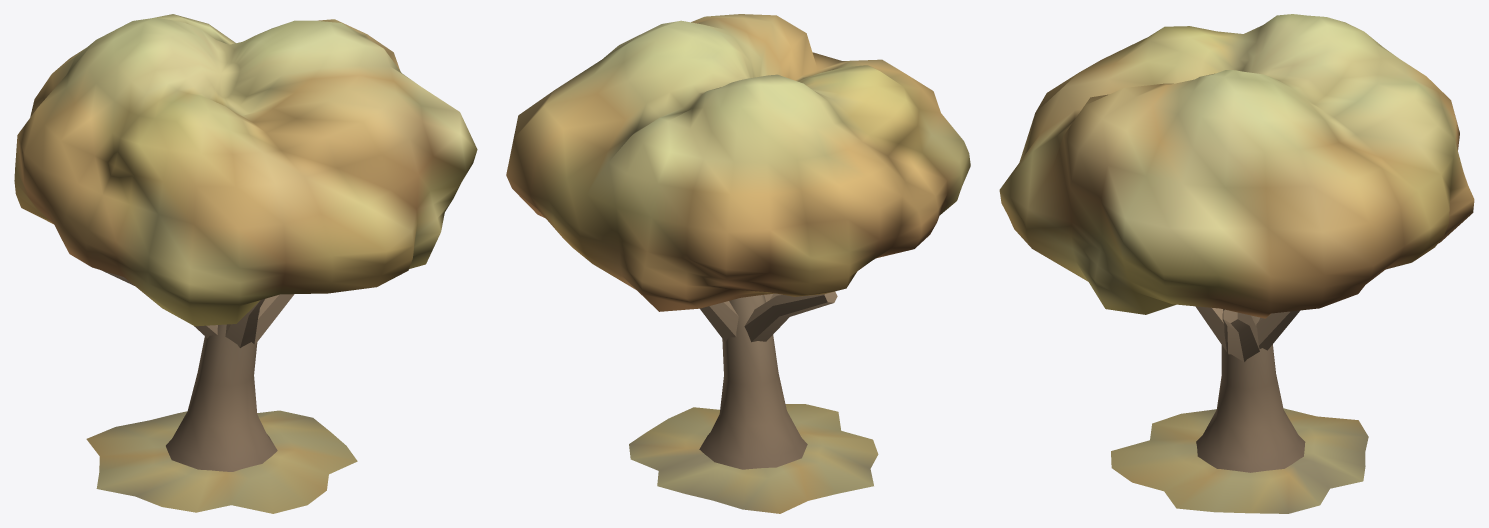
The model's file is autumn_c.glb.
The picture shows the model from 3 angles, left to right: view 1: azimuth 30°, elevation 25°; view 2: azimuth 150°, elevation 25°; view 3: azimuth 270°, elevation 25°; orthographic projection. The views are drawn at different scales.
Parts seen in each view (by area): view 1: autumn_c; view 2: autumn_c; view 3: autumn_c.
Part boxes in pixels (box(x1,y1,x2,y2)): autumn_c: box(14, 14, 477, 513); autumn_c: box(506, 14, 970, 513); autumn_c: box(999, 14, 1474, 513).
Bounding box in the file's own units: 18.89 × 19.76 × 20.16.
